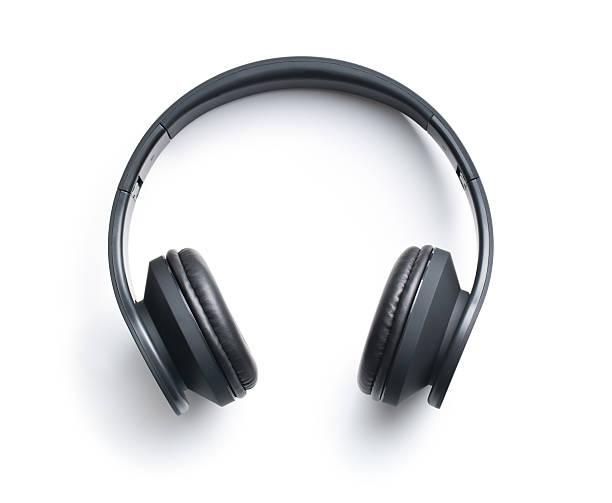headphone: (100, 57, 521, 436)
